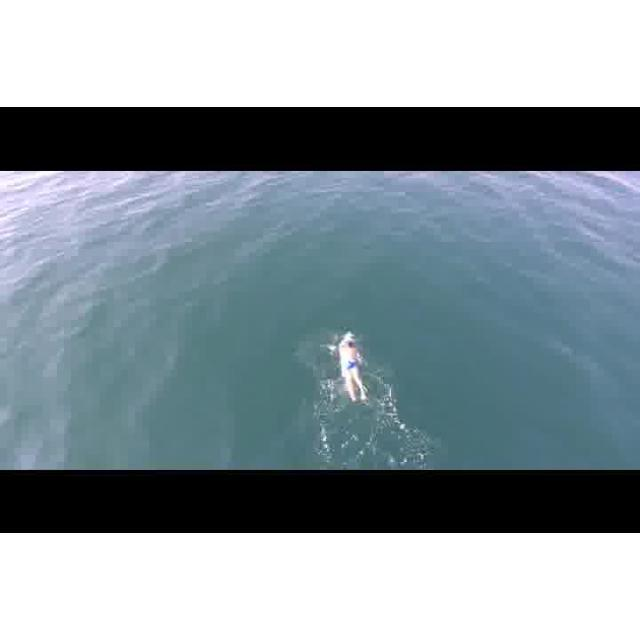human: (334, 332, 374, 408)
